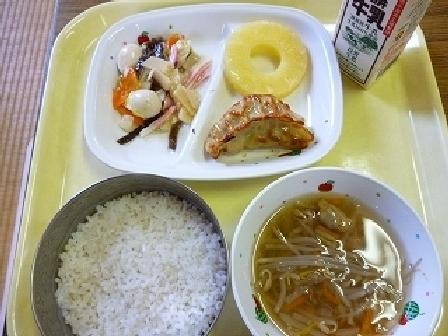Milk: (322, 0, 443, 74)
Rice: (33, 178, 222, 335)
Soups: (244, 180, 427, 335)
pineapple: (218, 13, 310, 95)
salad with sauce: (102, 22, 207, 134)
tushpara-fried: (203, 89, 314, 161)
